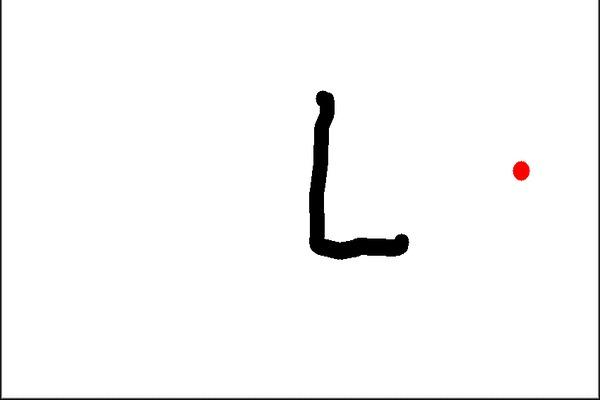L: (302, 85, 414, 267)
